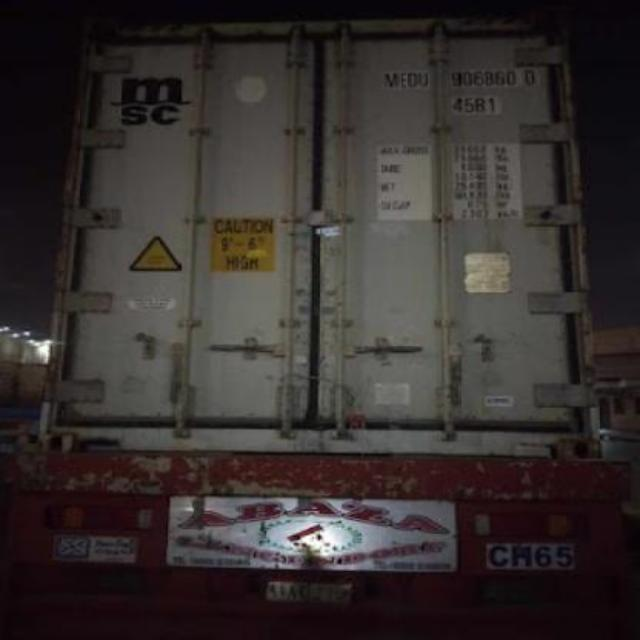0: (522, 56, 536, 92), (504, 63, 518, 93), (460, 66, 472, 88)
6: (470, 65, 482, 91), (496, 64, 504, 90)
8: (482, 65, 494, 91)
9: (448, 65, 460, 91)
D: (408, 61, 418, 93)
E: (398, 67, 408, 91)
M: (382, 66, 398, 92)
U: (418, 67, 430, 93)
